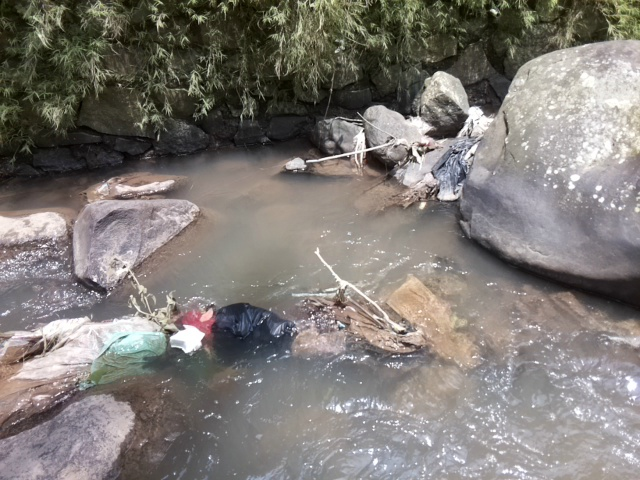Sampah_Plastik: (1, 310, 156, 412), (208, 300, 294, 357), (432, 137, 475, 206)
Sampah_Styrofoam: (168, 323, 201, 354)
